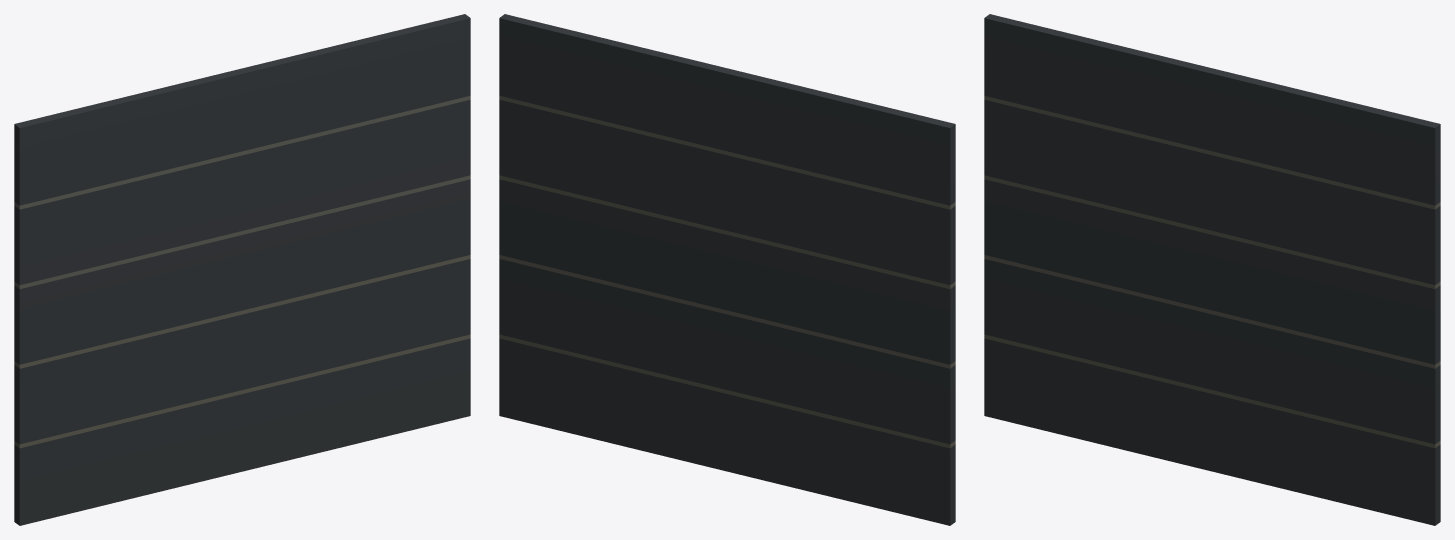
Rendered from House_27_Door02.fbx.
The picture shows the model from 3 angles, left to right: view 1: azimuth 30°, elevation 25°; view 2: azimuth 150°, elevation 25°; view 3: azimuth 330°, elevation 25°; orthographic projection.
Parts seen in each view (by area): view 1: House_27_Door02; view 2: House_27_Door02; view 3: House_27_Door02.
Boxes of the visible parts, x1,y1,x2,y2 form: House_27_Door02: [14, 14, 470, 525]; House_27_Door02: [499, 14, 955, 525]; House_27_Door02: [984, 14, 1440, 525].
Size of the model in its own units: 2.83 by 2.39 by 0.061.
